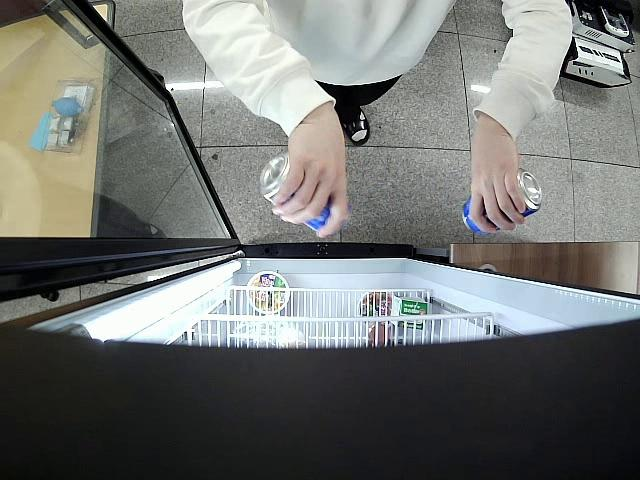00_hand: (272, 120, 349, 237), (467, 125, 529, 233)
13_pocariSweat: (261, 154, 351, 235), (462, 171, 541, 233)
